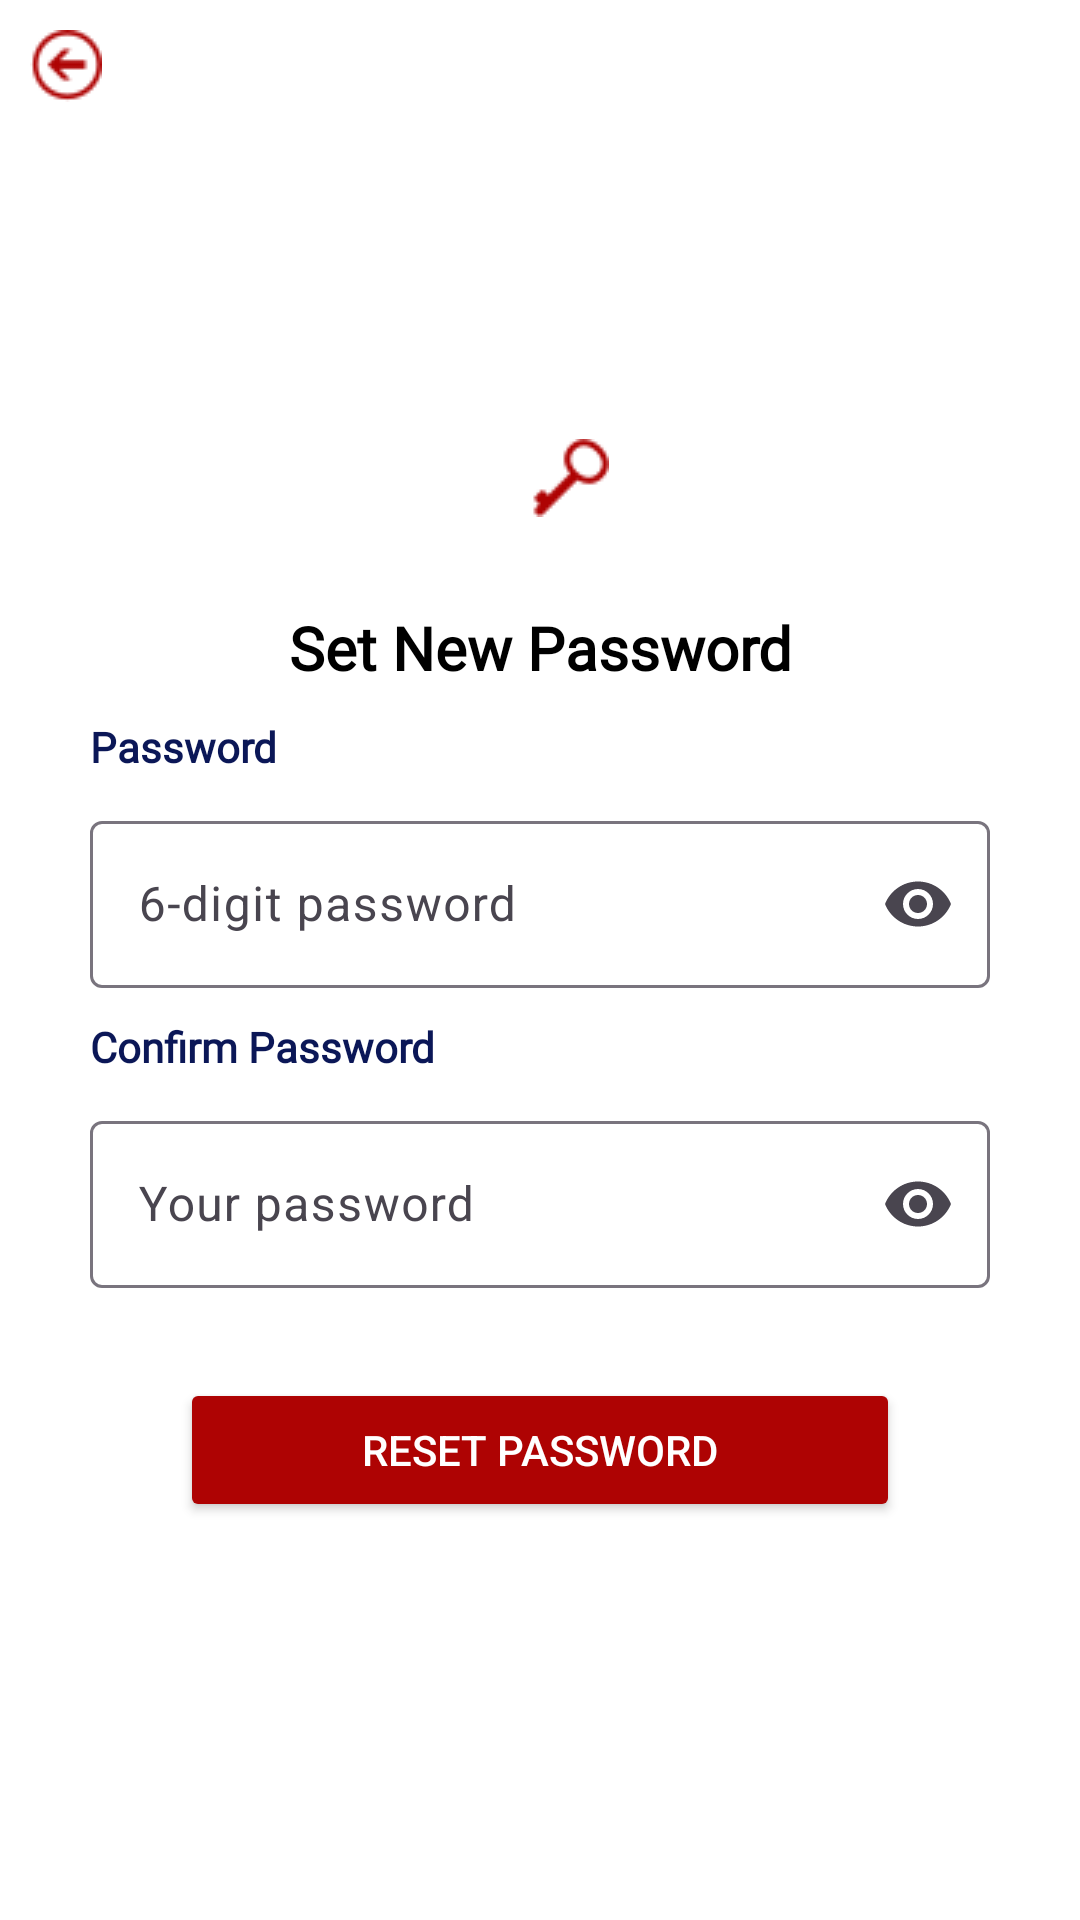

Icon click points for this 1080px×1920px phone screenshot, format [x,y]:
backarrow: [67,65]
key: [571,478]
